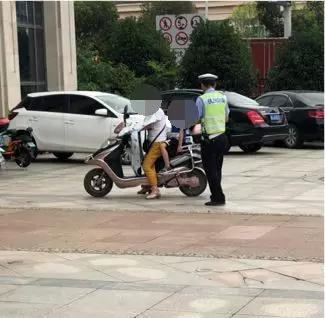电动车: (79, 105, 207, 203)
